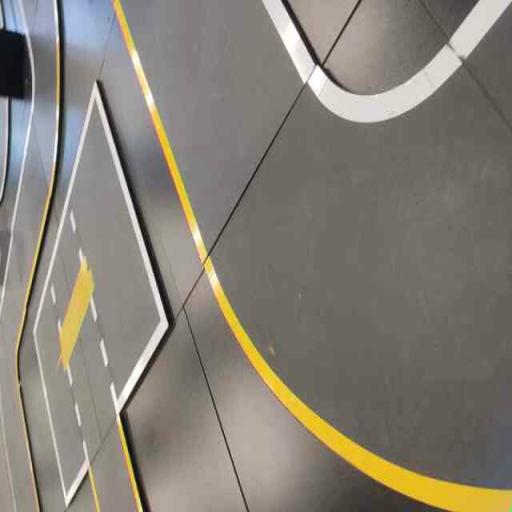right: (199, 0, 511, 511)
